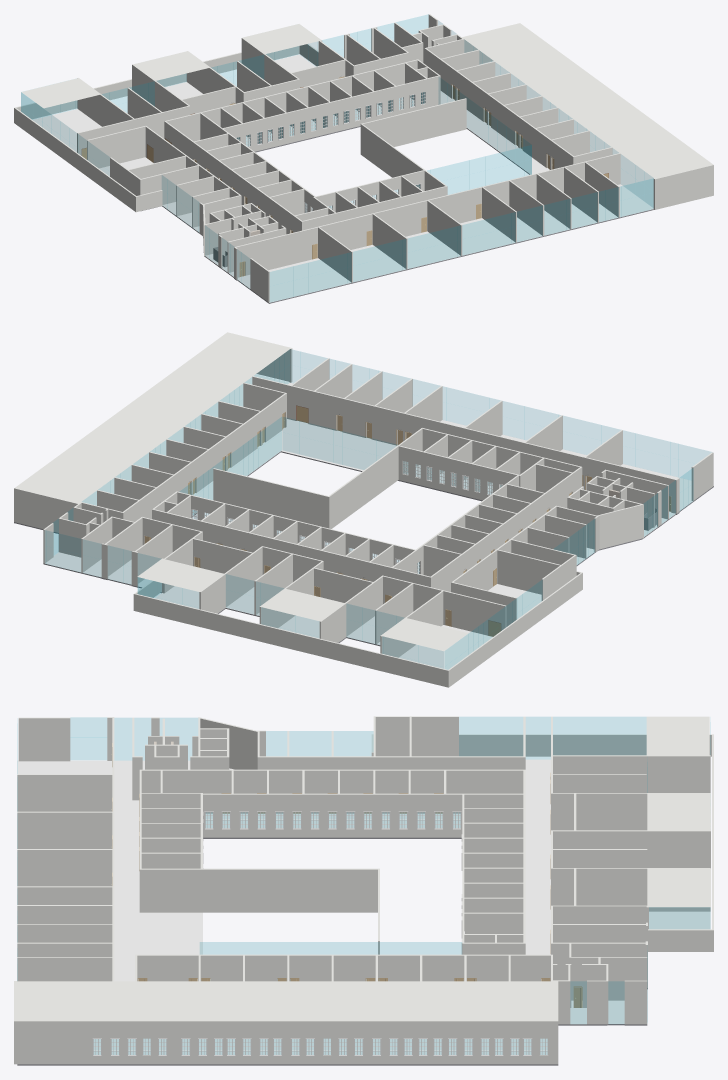
Rendered from 3楼墙体.gltf.
3 views of the same model, one above another, from view 1: azimuth 30°, elevation 25°; view 2: azimuth 150°, elevation 25°; view 3: azimuth 270°, elevation 25° (orthographic). The views are drawn at different scales.
Parts seen in each view (by area): view 1: 常规 140 - 20+120 [639489], 常规 [643752], 常规 - 200mm [406510], 常规 - 200mm [405003], 常规 - 200mm [390235], 常规 - 200mm [396545], 常规 - 200mm [392540], 常规 - 200mm [393992], 常规 - 200mm 3 [642145], 常规 - 200mm 3 [642364], 常规 - 200mm [392927], 常规 - 200mm [643322] (+50 smaller); view 2: 常规 140 - 20+120 [639489], 常规 [643752], 常规 - 200mm [406510], 常规 - 200mm 3 [642364], 常规 - 200mm [390235], 常规 - 200mm [396545], 常规 - 200mm [392540], 常规 - 200mm [393992], 常规 - 200mm [392776], 常规 - 200mm [392927], 常规 - 200mm [394713], 常规 - 200mm [405003] (+52 smaller); view 3: 常规 140 - 20+120 [639489], 常规 [643752], 常规 - 200mm [644836], 常规 - 200mm [390235], 常规 - 200mm [392927], 常规 - 200mm [396860], 常规 - 200mm [393992], 常规 - 200mm [382158], 常规 - 200mm 3 [642145], 常规 - 200mm [395307], 常规 - 200mm [383719], 常规 - 200mm [422749] (+40 smaller).
Part boxes in pixels (box(x1,y1,x2,y2)): 常规 140 - 20+120 [639489]: box(33, 54, 654, 303); 常规 [643752]: box(463, 24, 711, 178); 常规 - 200mm [406510]: box(234, 153, 620, 277); 常规 - 200mm [405003]: box(223, 75, 440, 151); 常规 - 200mm [390235]: box(424, 48, 574, 169); 常规 - 200mm [396545]: box(166, 59, 417, 141); 常规 - 200mm [392540]: box(360, 98, 466, 154); 常规 - 200mm [393992]: box(164, 121, 301, 234); 常规 - 200mm 3 [642145]: box(14, 107, 135, 211); 常规 - 200mm 3 [642364]: box(15, 46, 299, 119); 常规 - 200mm [392927]: box(361, 124, 447, 195); 常规 - 200mm [643322]: box(655, 164, 713, 209); 常规 140 - 20+120 [639489]: box(14, 374, 713, 669); 常规 [643752]: box(16, 333, 289, 503); 常规 - 200mm [406510]: box(252, 376, 677, 513); 常规 - 200mm 3 [642364]: box(133, 593, 447, 687); 常规 - 200mm [390235]: box(122, 393, 286, 521); 常规 - 200mm [396545]: box(153, 509, 429, 586); 常规 - 200mm [392540]: box(213, 468, 329, 528); 常规 - 200mm [393992]: box(429, 467, 581, 591); 常规 - 200mm [392776]: box(398, 445, 521, 500); 常规 - 200mm [392927]: box(329, 428, 422, 528); 常规 - 200mm [394713]: box(382, 575, 506, 635); 常规 - 200mm [405003]: box(176, 491, 415, 565); 常规 140 - 20+120 [639489]: box(17, 759, 710, 1065); 常规 [643752]: box(16, 981, 555, 1020); 常规 - 200mm [644836]: box(16, 1020, 555, 1064); 常规 - 200mm [390235]: box(135, 954, 552, 981); 常规 - 200mm [392927]: box(139, 868, 377, 912); 常规 - 200mm [396860]: box(203, 793, 523, 837); 常规 - 200mm [393992]: box(141, 769, 525, 813); 常规 - 200mm [382158]: box(553, 755, 710, 792); 常规 - 200mm 3 [642145]: box(459, 734, 713, 756); 常规 - 200mm [395307]: box(553, 830, 710, 868); 常规 - 200mm [383719]: box(553, 868, 710, 911); 常规 - 200mm [422749]: box(259, 756, 523, 769).
Bounding box in the file's own units: 69.31 × 4.64 × 66.38.
